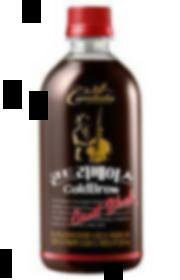contrabass_sweetblack: (32, 5, 146, 277)
